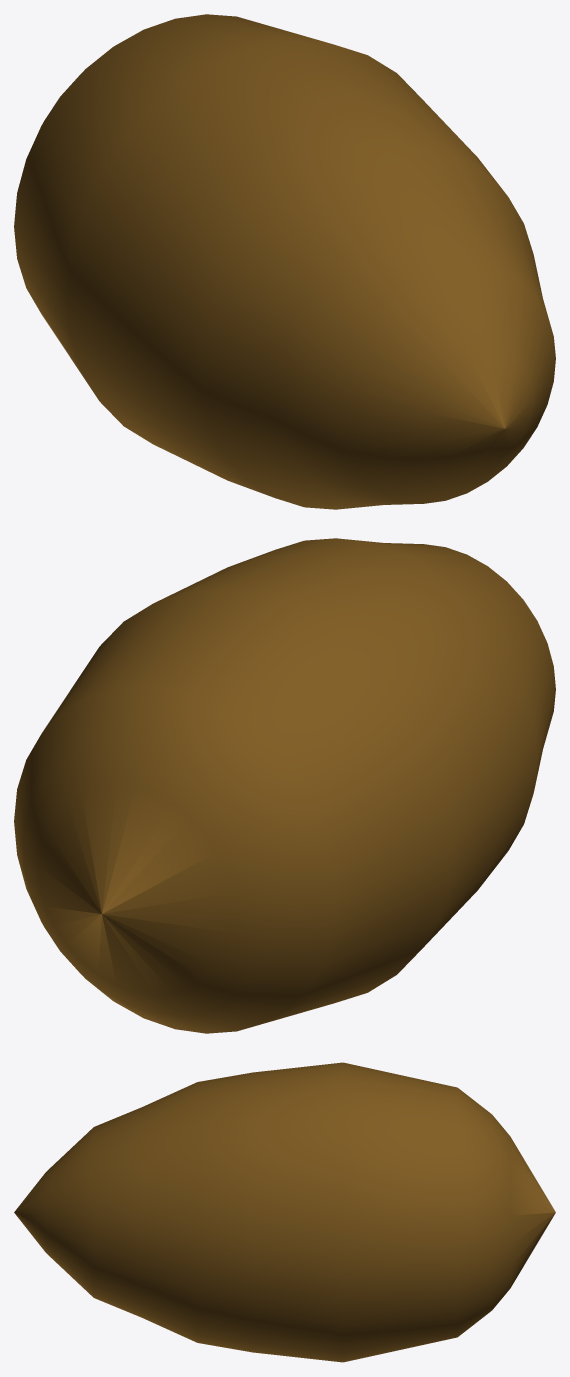
Rendered from CornSeed.fbx.
3 views of the same model, one above another, from view 1: azimuth 30°, elevation 25°; view 2: azimuth 150°, elevation 25°; view 3: azimuth 270°, elevation 25° (orthographic). The views are drawn at different scales.
Parts seen in each view (by area): view 1: PopcornSeed; view 2: PopcornSeed; view 3: PopcornSeed.
Part boxes in pixels (x1,y1,x2,y2): PopcornSeed: (14,14,555,509); PopcornSeed: (14,538,555,1033); PopcornSeed: (14,1062,555,1362).
Size of the model in its own units: 63.76 by 63.76 by 115.
